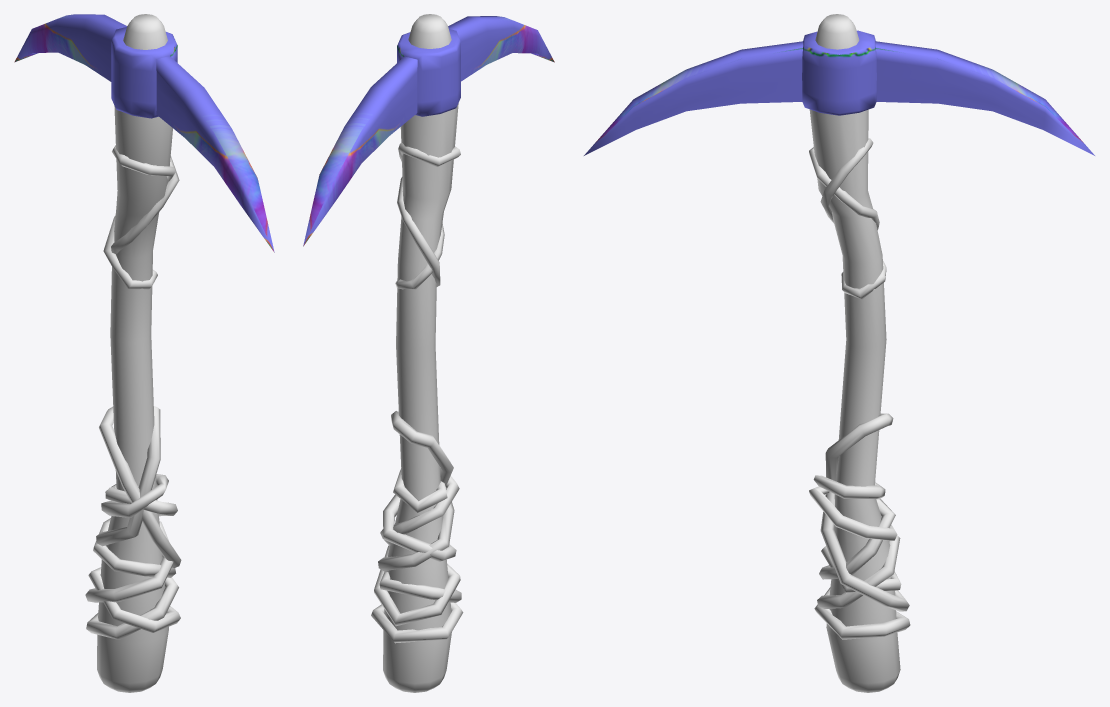
Rendered from pickaxe_iron.fbx.
3 renders of one model, left to right at view 1: azimuth 30°, elevation 25°; view 2: azimuth 150°, elevation 25°; view 3: azimuth 270°, elevation 25°, orthographic. The views are drawn at different scales.
Parts seen in each view (by area): view 1: pickaxe_iron; view 2: pickaxe_iron; view 3: pickaxe_iron.
Boxes of the visible parts, x1,y1,x2,y2 form: pickaxe_iron: [14, 14, 274, 692]; pickaxe_iron: [303, 14, 554, 692]; pickaxe_iron: [584, 14, 1094, 692].
Bounding box in the file's own units: 1.86 × 2.67 × 0.3246.
